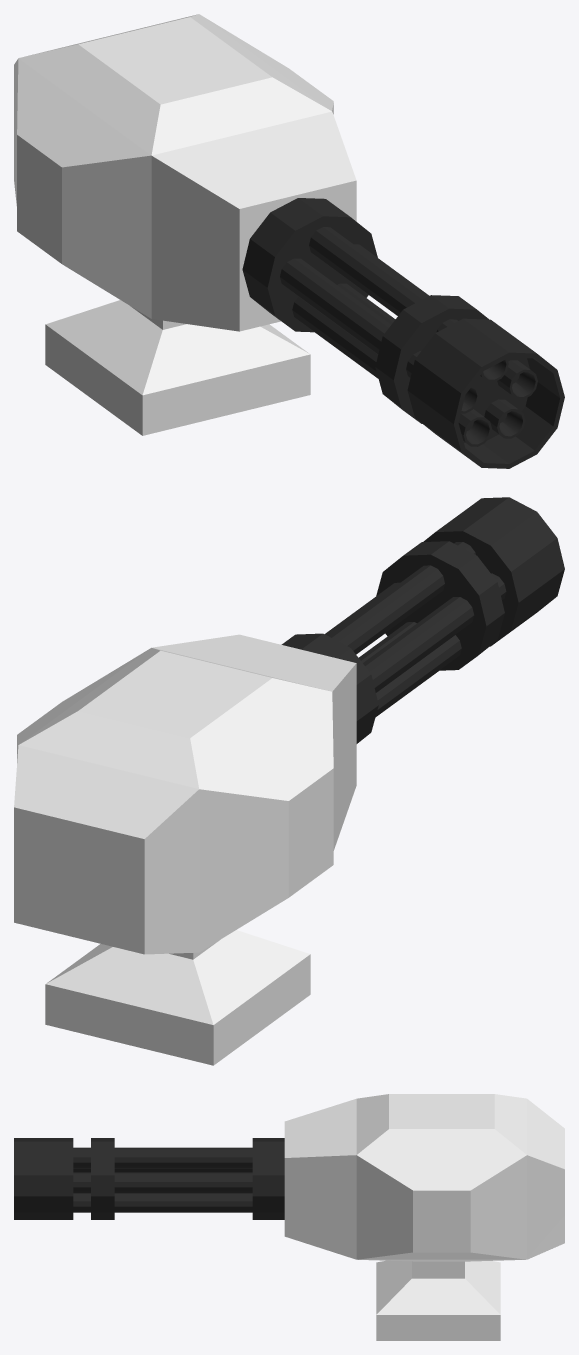
File: Turret_08.fbx
The picture shows the model from 3 angles, top to bottom: view 1: azimuth 30°, elevation 25°; view 2: azimuth 150°, elevation 25°; view 3: azimuth 270°, elevation 25°; orthographic projection. The views are drawn at different scales.
Parts seen in each view (by area): view 1: Turret_08_Body, Turret_08_MainGun, Turret_08_LowerBody; view 2: Turret_08_Body, Turret_08_MainGun, Turret_08_LowerBody; view 3: Turret_08_Body, Turret_08_MainGun, Turret_08_LowerBody.
Boxes of the visible parts, bbox=[...] form: Turret_08_Body: bbox=[14, 14, 356, 331]; Turret_08_MainGun: bbox=[242, 198, 564, 468]; Turret_08_LowerBody: bbox=[45, 300, 310, 435]; Turret_08_Body: bbox=[14, 634, 356, 954]; Turret_08_MainGun: bbox=[281, 497, 564, 743]; Turret_08_LowerBody: bbox=[45, 930, 310, 1065]; Turret_08_Body: bbox=[284, 1094, 564, 1261]; Turret_08_MainGun: bbox=[14, 1138, 284, 1219]; Turret_08_LowerBody: bbox=[376, 1260, 500, 1340].
Bounding box in the file's own units: 11.49 × 12.81 × 31.49.
